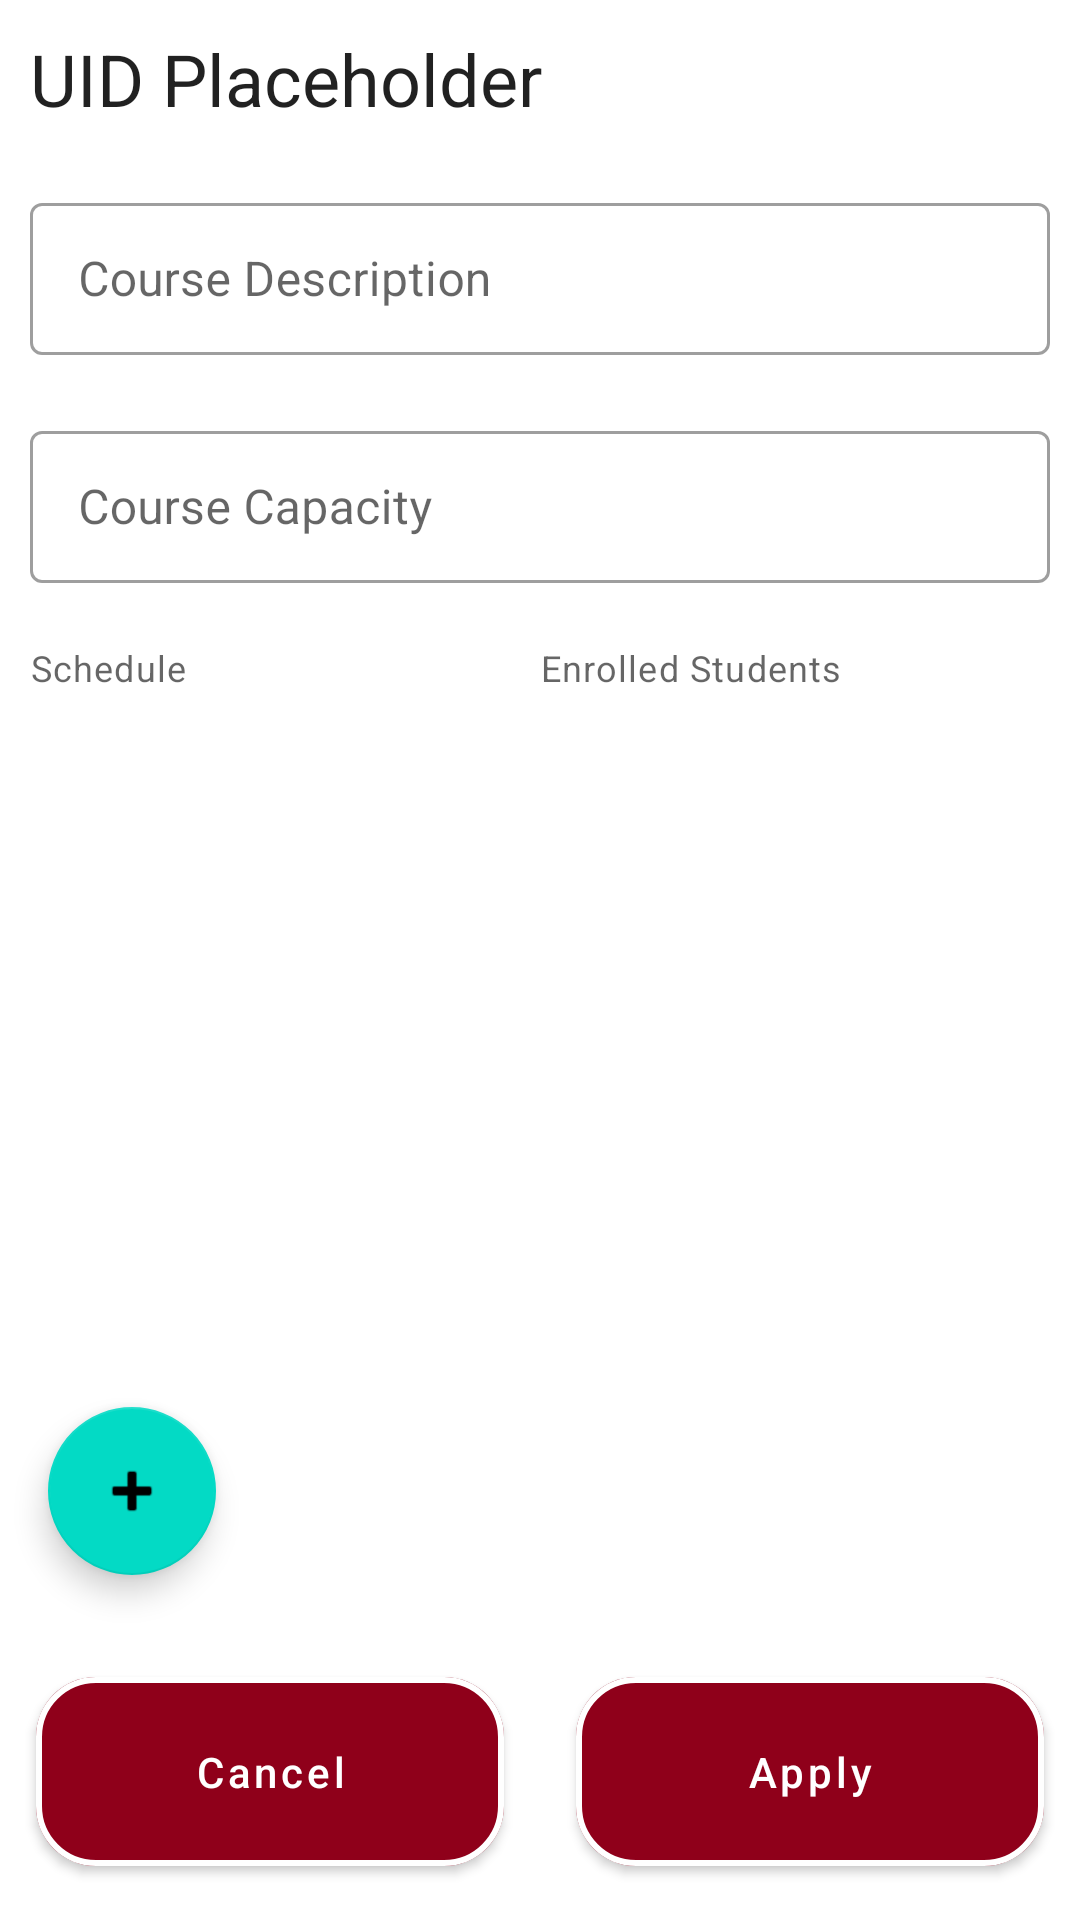

Locate icon controls on the screen. Image size 1080px x 1920px, boxes as (x1, y1, x2, y2).
add: (48, 1407, 216, 1575)
